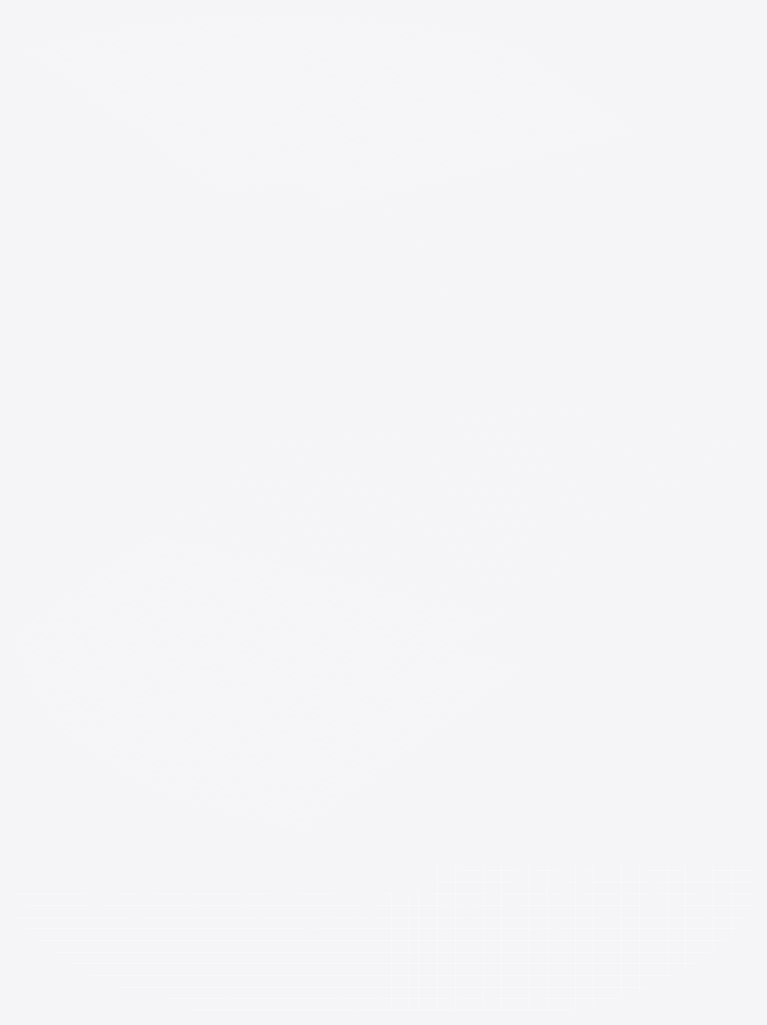
The model's file is SM_RiyadhNights_Far_Streets_4.fbx.
3 renders of one model, top to bottom at view 1: azimuth 30°, elevation 25°; view 2: azimuth 150°, elevation 25°; view 3: azimuth 270°, elevation 25°, orthographic. The views are drawn at different scales.
Parts seen in each view (by area): view 1: SM_RiyadhNights_Far_Streets_4; view 2: SM_RiyadhNights_Far_Streets_4; view 3: SM_RiyadhNights_Far_Streets_4.
Boxes of the visible parts, x1,y1,x2,y2 form: SM_RiyadhNights_Far_Streets_4: [21, 15, 750, 376]; SM_RiyadhNights_Far_Streets_4: [15, 406, 750, 830]; SM_RiyadhNights_Far_Streets_4: [14, 861, 752, 1010].
Size of the model in its own units: 690140 by 1119 by 1446000.
